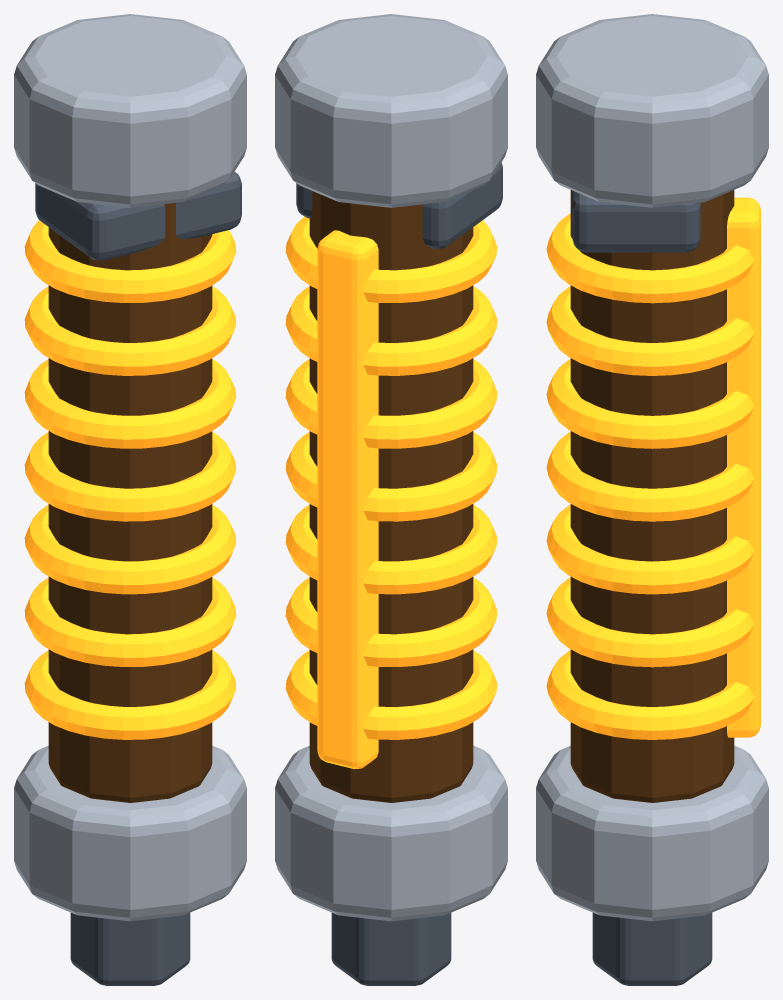
File: skill-rod.glb
The picture shows the model from 3 angles, left to right: view 1: azimuth 30°, elevation 25°; view 2: azimuth 150°, elevation 25°; view 3: azimuth 270°, elevation 25°; orthographic projection.
Parts seen in each view (by area): view 1: SkillRod_Core, SkillRod_Cap_Top, SkillRod_Cap_Bottom, SkillRod_Selector, SkillRod_CommandRing_5, SkillRod_CommandRing_4, SkillRod_CommandRing_1, SkillRod_CommandRing_3, SkillRod_CommandRing_6, SkillRod_CommandRing_2, SkillRod_CommandRing_7, SkillRod_Key; view 2: SkillRod_Cap_Top, SkillRod_Core, SkillRod_ActionSpine, SkillRod_Cap_Bottom, SkillRod_Key, SkillRod_CommandRing_5, SkillRod_CommandRing_4, SkillRod_CommandRing_6, SkillRod_CommandRing_1, SkillRod_CommandRing_3, SkillRod_CommandRing_2, SkillRod_CommandRing_7 (+1 smaller); view 3: SkillRod_Core, SkillRod_Cap_Top, SkillRod_Cap_Bottom, SkillRod_ActionSpine, SkillRod_CommandRing_5, SkillRod_CommandRing_6, SkillRod_CommandRing_1, SkillRod_CommandRing_4, SkillRod_CommandRing_2, SkillRod_CommandRing_3, SkillRod_CommandRing_7, SkillRod_Key (+1 smaller).
Boxes of the visible parts, left/top/right/bottom form: SkillRod_Core: left=48, top=203, right=212, bottom=802; SkillRod_Cap_Top: left=14, top=14, right=246, bottom=207; SkillRod_Cap_Bottom: left=14, top=745, right=246, bottom=921; SkillRod_Selector: left=35, top=171, right=241, bottom=260; SkillRod_CommandRing_5: left=24, top=359, right=236, bottom=448; SkillRod_CommandRing_4: left=24, top=432, right=236, bottom=521; SkillRod_CommandRing_1: left=24, top=650, right=236, bottom=739; SkillRod_CommandRing_3: left=24, top=504, right=236, bottom=594; SkillRod_CommandRing_6: left=24, top=286, right=236, bottom=375; SkillRod_CommandRing_2: left=24, top=577, right=236, bottom=666; SkillRod_CommandRing_7: left=24, top=220, right=236, bottom=302; SkillRod_Key: left=70, top=913, right=190, bottom=985; SkillRod_Cap_Top: left=275, top=14, right=507, bottom=207; SkillRod_Core: left=309, top=191, right=473, bottom=802; SkillRod_ActionSpine: left=317, top=230, right=378, bottom=769; SkillRod_Cap_Bottom: left=275, top=745, right=507, bottom=921; SkillRod_Key: left=331, top=913, right=451, bottom=985; SkillRod_CommandRing_5: left=285, top=359, right=497, bottom=448; SkillRod_CommandRing_4: left=285, top=432, right=497, bottom=521; SkillRod_CommandRing_6: left=285, top=286, right=497, bottom=375; SkillRod_CommandRing_1: left=285, top=650, right=497, bottom=739; SkillRod_CommandRing_3: left=285, top=504, right=497, bottom=594; SkillRod_CommandRing_2: left=285, top=577, right=497, bottom=666; SkillRod_CommandRing_7: left=285, top=216, right=497, bottom=302; SkillRod_Core: left=570, top=190, right=734, bottom=802; SkillRod_Cap_Top: left=536, top=14, right=768, bottom=207; SkillRod_Cap_Bottom: left=536, top=745, right=768, bottom=921; SkillRod_ActionSpine: left=727, top=197, right=760, bottom=737; SkillRod_CommandRing_5: left=546, top=359, right=754, bottom=448; SkillRod_CommandRing_6: left=546, top=286, right=754, bottom=375; SkillRod_CommandRing_1: left=546, top=650, right=754, bottom=739; SkillRod_CommandRing_4: left=546, top=432, right=754, bottom=521; SkillRod_CommandRing_2: left=546, top=577, right=754, bottom=667; SkillRod_CommandRing_3: left=546, top=504, right=754, bottom=594; SkillRod_CommandRing_7: left=546, top=213, right=754, bottom=303; SkillRod_Key: left=592, top=913, right=712, bottom=985.
Bounding box in the file's own units: 0.29 × 1.25 × 0.29.
